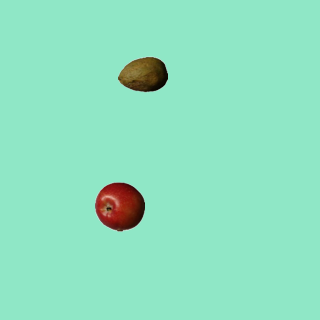Apple Braeburn: (94, 181, 144, 231)
Papaya: (117, 49, 167, 99)
